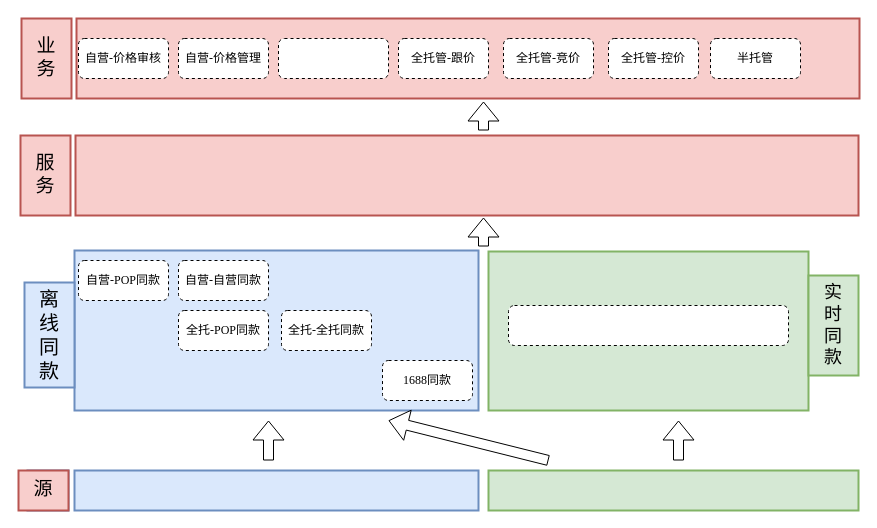
The diagram is 877 pixels wide and 528 high, and some of its shapes have lost their labels. Each missing label, with the box of its shape:
odps: (73, 469, 479, 511)
业务处理: (74, 134, 859, 216)
全托管-邀约供货价: (278, 38, 388, 78)
在线处理: (508, 304, 788, 346)
算法: (487, 469, 859, 511)
